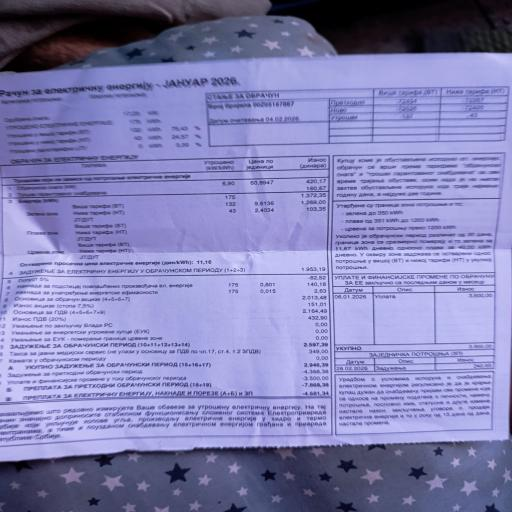racun_za_struju: (6, 152, 333, 276)
